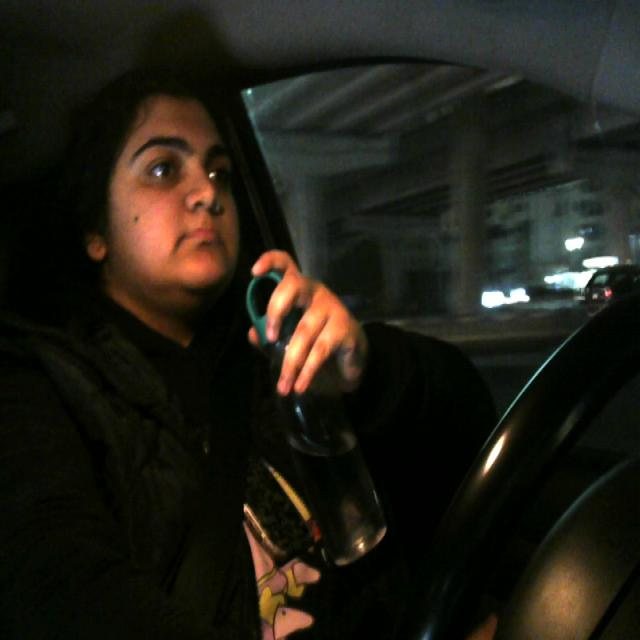drinking: (238, 254, 411, 590)
